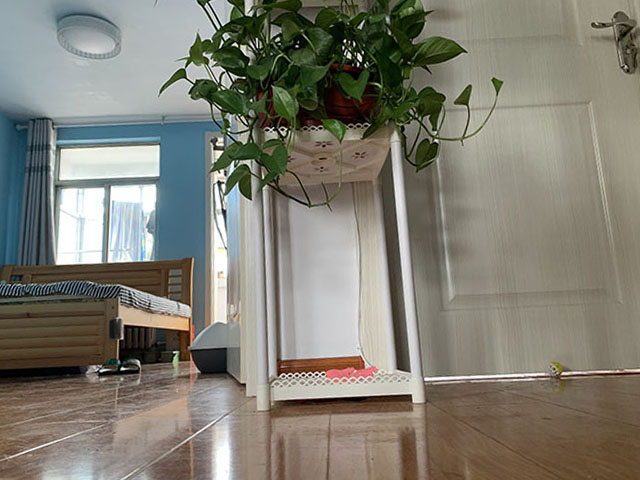bed: (1, 255, 195, 369)
curtain: (20, 119, 56, 264)
slippers: (100, 358, 119, 376), (118, 358, 142, 372)
